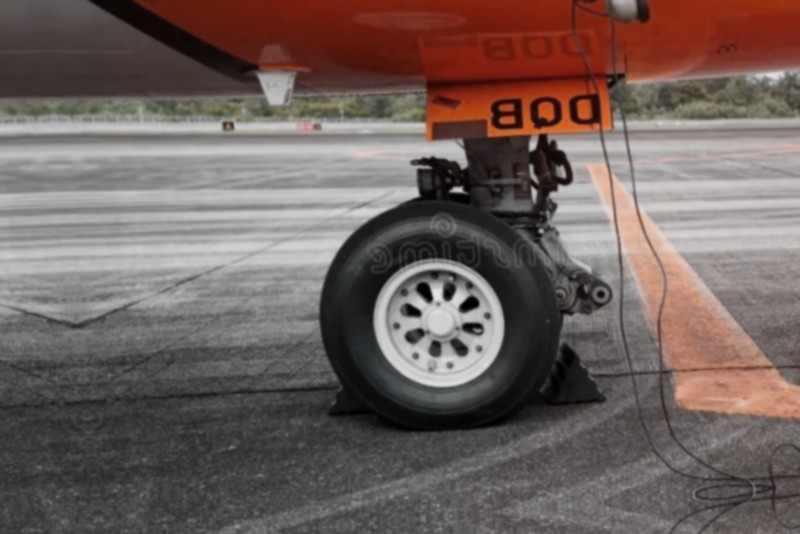chock: (535, 337, 607, 406)
wheel: (310, 193, 576, 437)
